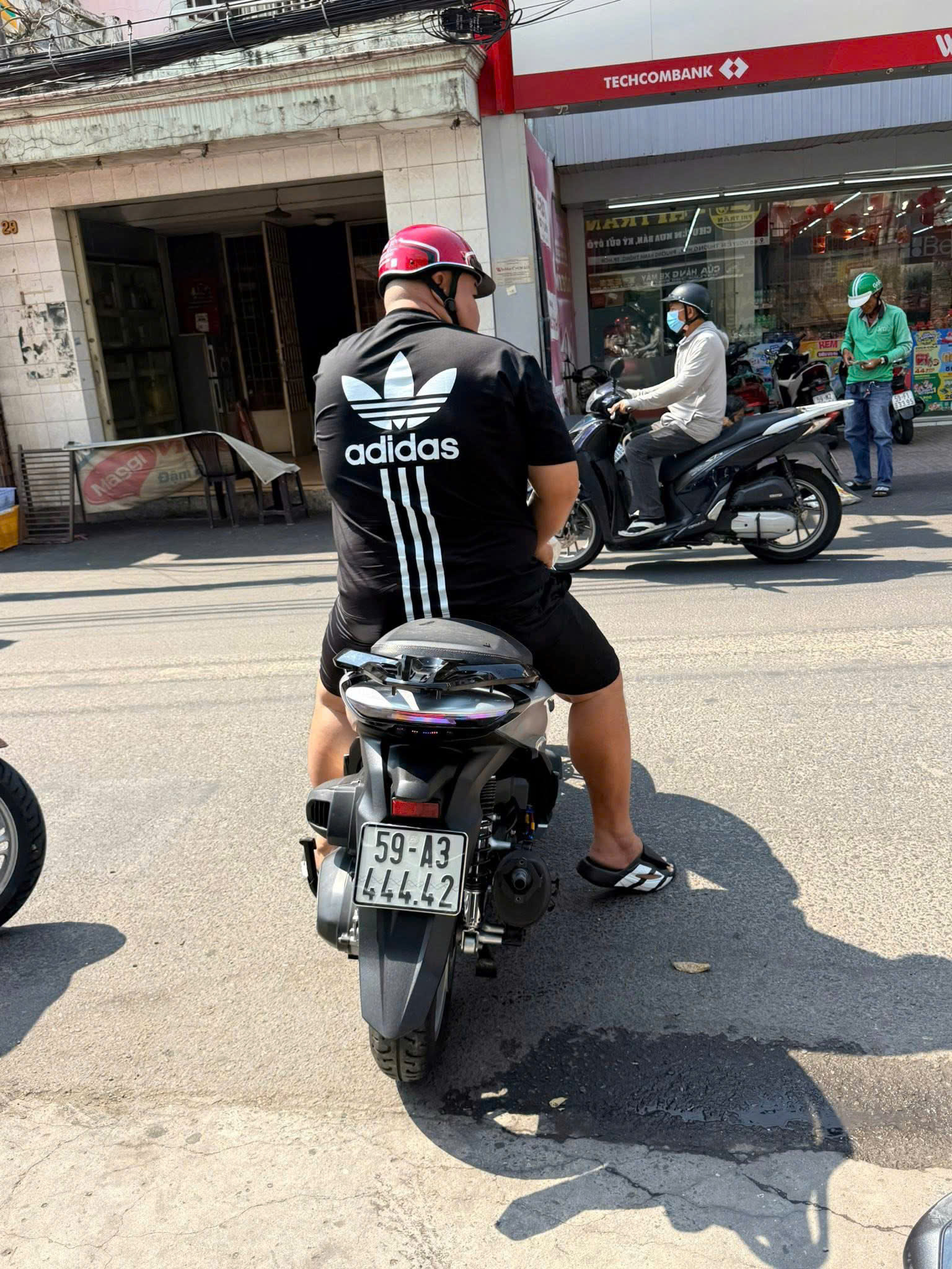Bien-so: (350, 820, 469, 914)
